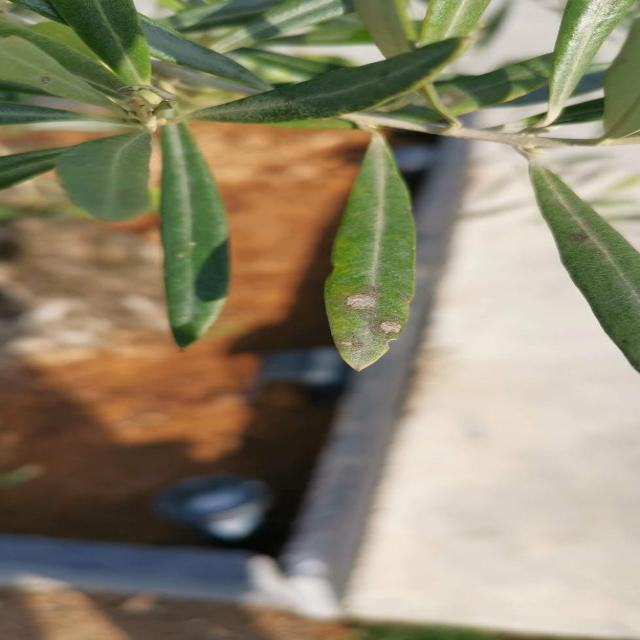OlivePeacockSpot: (324, 140, 414, 371)
